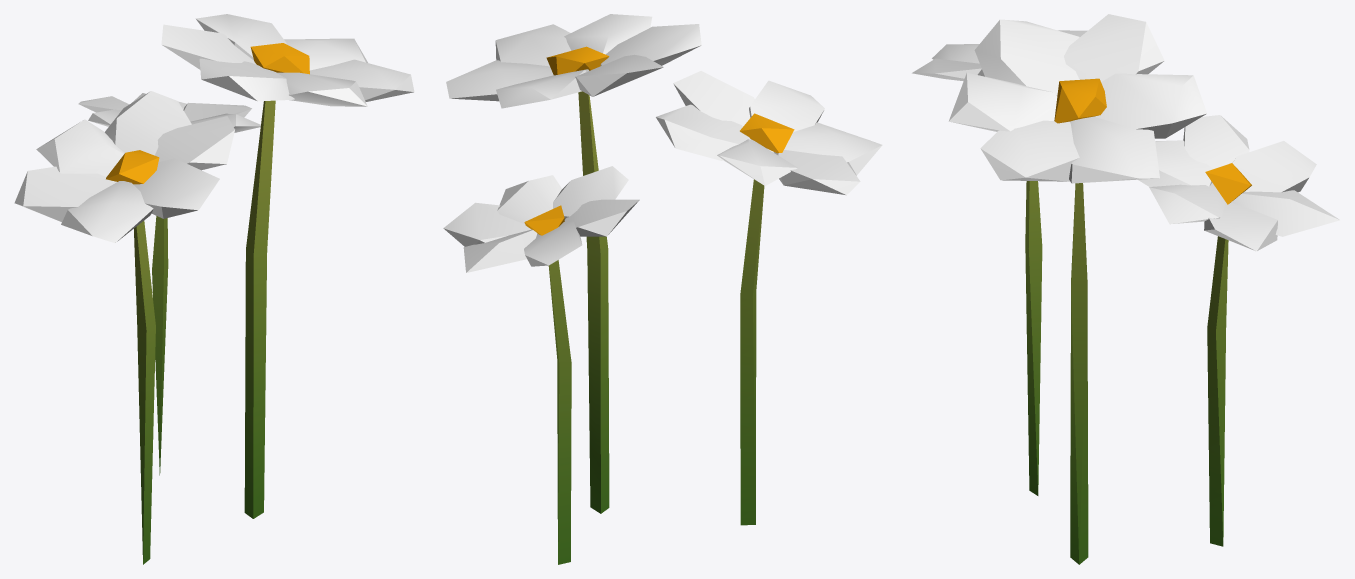
The model's file is Flower_07.fbx.
3 views of the same model, side by side, from view 1: azimuth 30°, elevation 25°; view 2: azimuth 150°, elevation 25°; view 3: azimuth 270°, elevation 25° (orthographic). The views are drawn at different scales.
Visible parts, largest first — view 1: Flower_07; view 2: Flower_07; view 3: Flower_07.
Part boxes in pixels (x1=…): Flower_07: x1=14, y1=14, x2=414, y2=564; Flower_07: x1=443, y1=14, x2=882, y2=564; Flower_07: x1=912, y1=14, x2=1339, y2=564.
Bounding box in the file's own units: 23.84 × 28.93 × 22.15.
